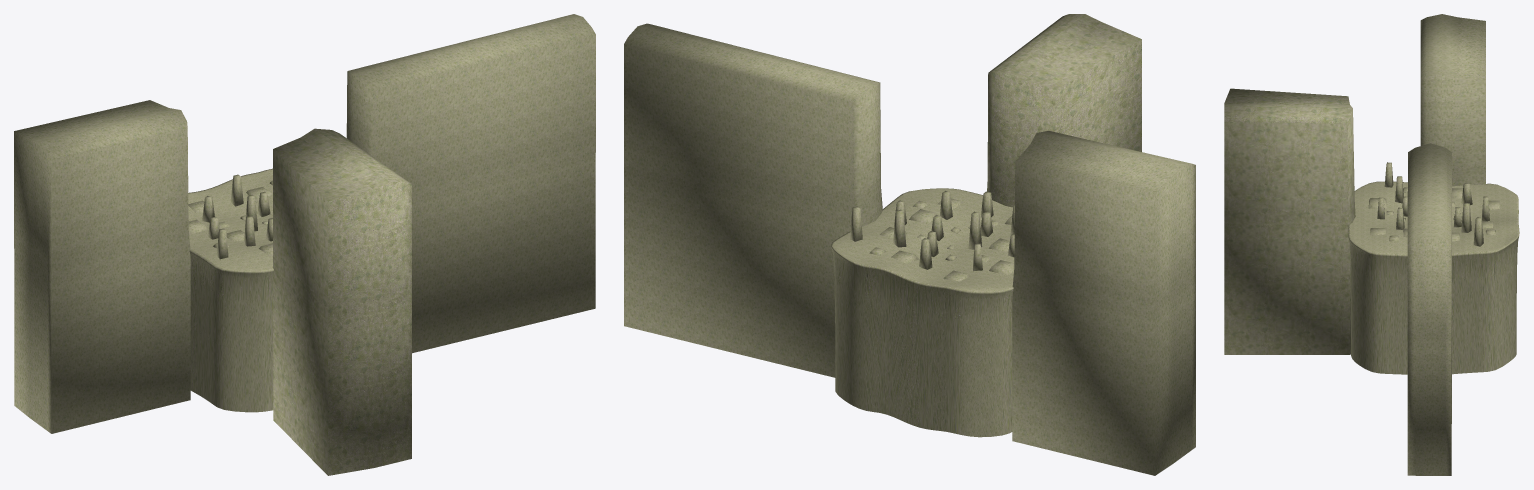
The model's file is SM_LDFest_08_SHADOW.fbx.
3 renders of one model, left to right at view 1: azimuth 30°, elevation 25°; view 2: azimuth 150°, elevation 25°; view 3: azimuth 270°, elevation 25°, orthographic. The views are drawn at different scales.
Visible parts, largest first — view 1: SM_LDFest_08_SHADOW; view 2: SM_LDFest_08_SHADOW; view 3: SM_LDFest_08_SHADOW.
Boxes of the visible parts, x1,y1,x2,y2 form: SM_LDFest_08_SHADOW: (14,14,595,475); SM_LDFest_08_SHADOW: (624,14,1195,475); SM_LDFest_08_SHADOW: (1224,14,1519,475).
Size of the model in its own units: 28484 by 14292 by 15967.
